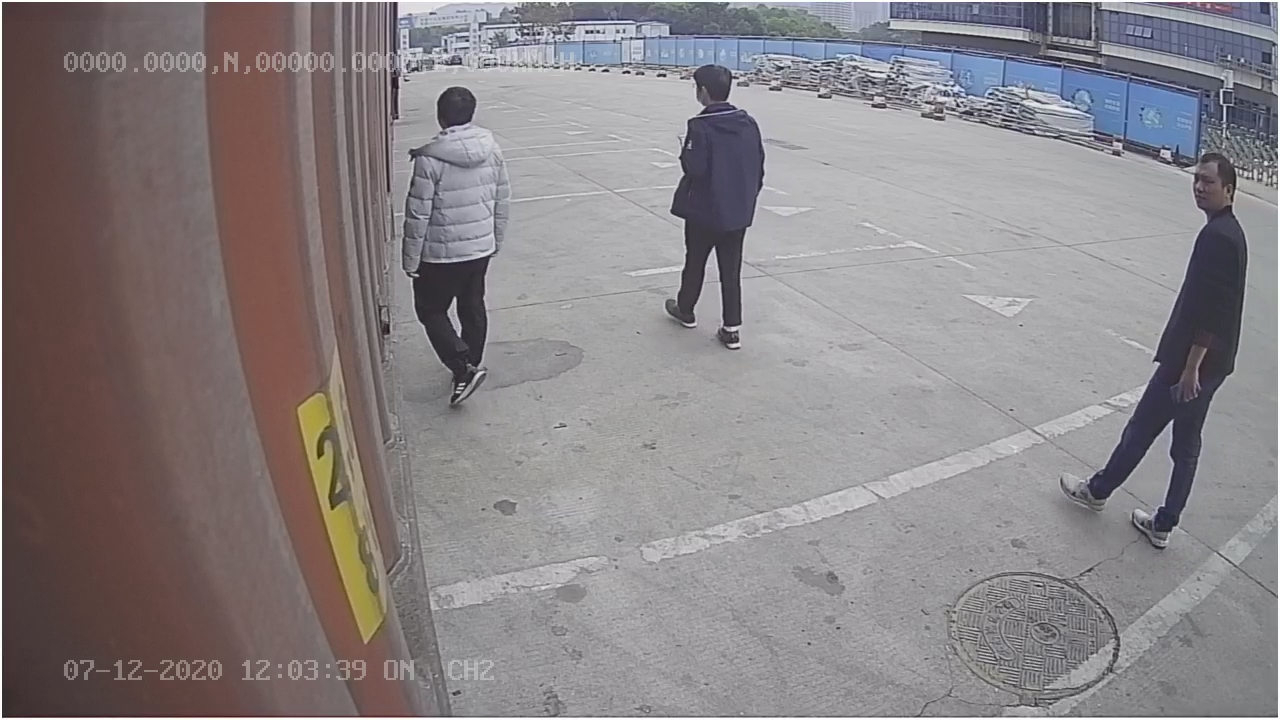person: (1052, 143, 1245, 551), (402, 78, 511, 408), (661, 62, 763, 347)
